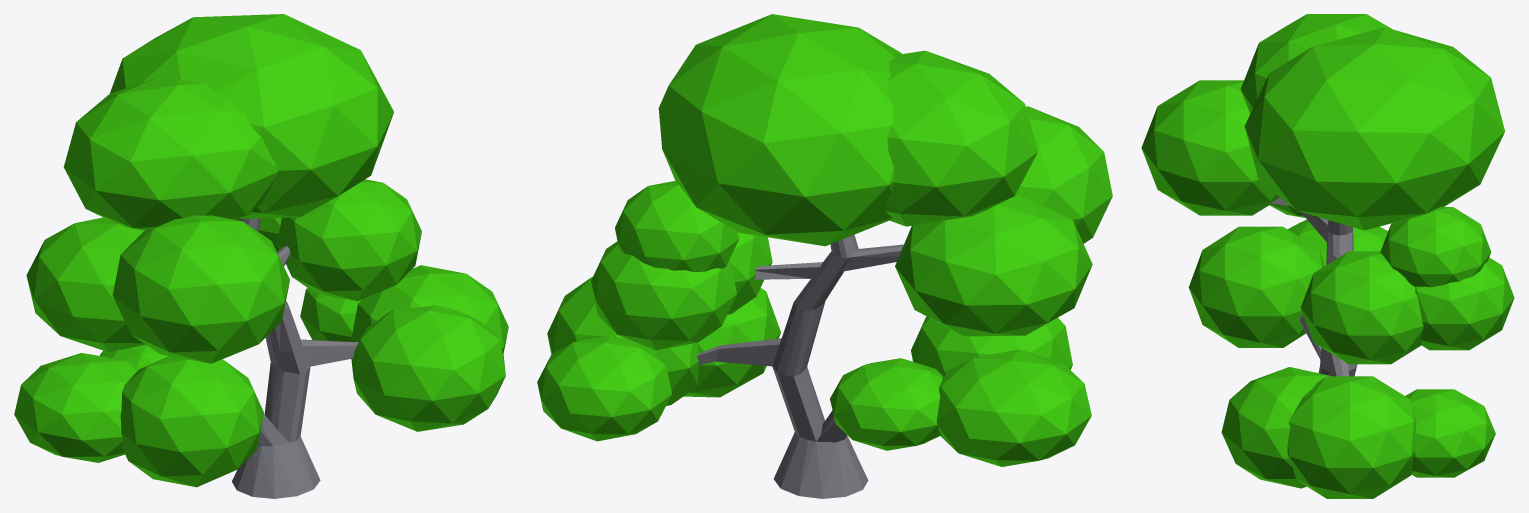
The model's file is GreyTree.obj.
The picture shows the model from 3 angles, left to right: view 1: azimuth 30°, elevation 25°; view 2: azimuth 150°, elevation 25°; view 3: azimuth 270°, elevation 25°; orthographic projection. The views are drawn at different scales.
Parts seen in each view (by area): view 1: GreyTree_Circle.003; view 2: GreyTree_Circle.003; view 3: GreyTree_Circle.003.
Boxes of the visible parts, left/top/right/bottom form: GreyTree_Circle.003: left=14, top=14, right=508, bottom=498; GreyTree_Circle.003: left=537, top=14, right=1112, bottom=498; GreyTree_Circle.003: left=1141, top=14, right=1514, bottom=498.
Size of the model in its own units: 12.45 by 10.89 by 9.03.
